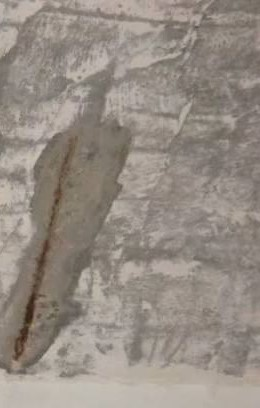Exposed reinforcement: (11, 134, 80, 361)
Spalling: (1, 114, 133, 376)
